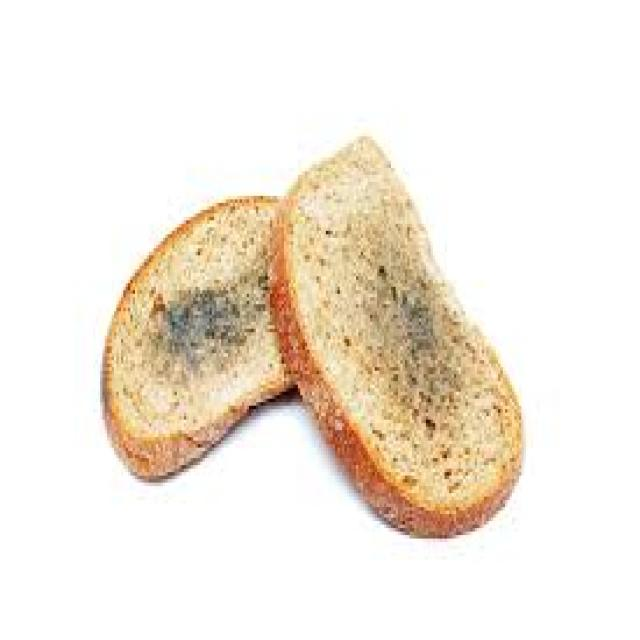organic waste: (270, 133, 524, 535), (98, 185, 337, 483)
